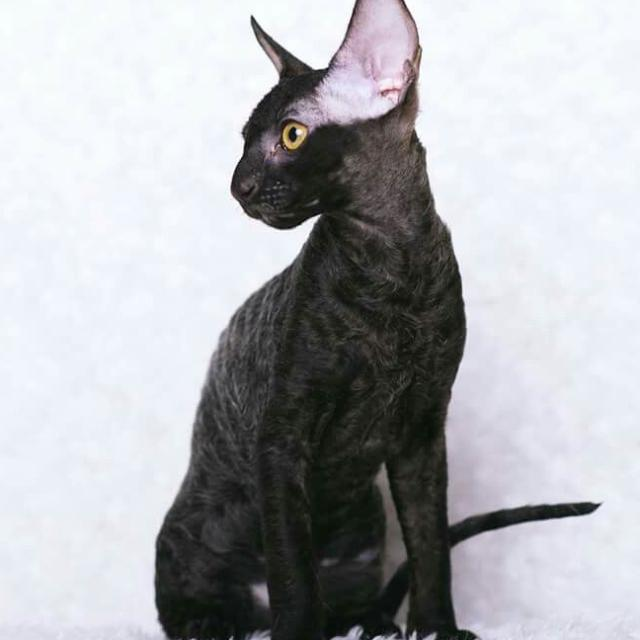Cornish Rex: (144, 0, 610, 640)
